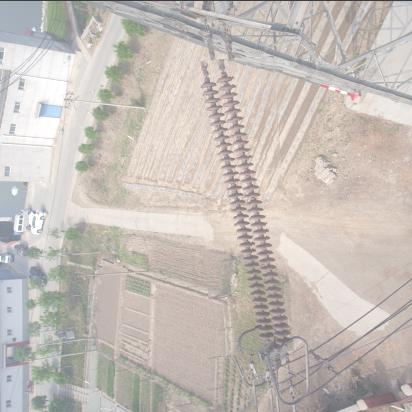insulator: (198, 57, 290, 355)
